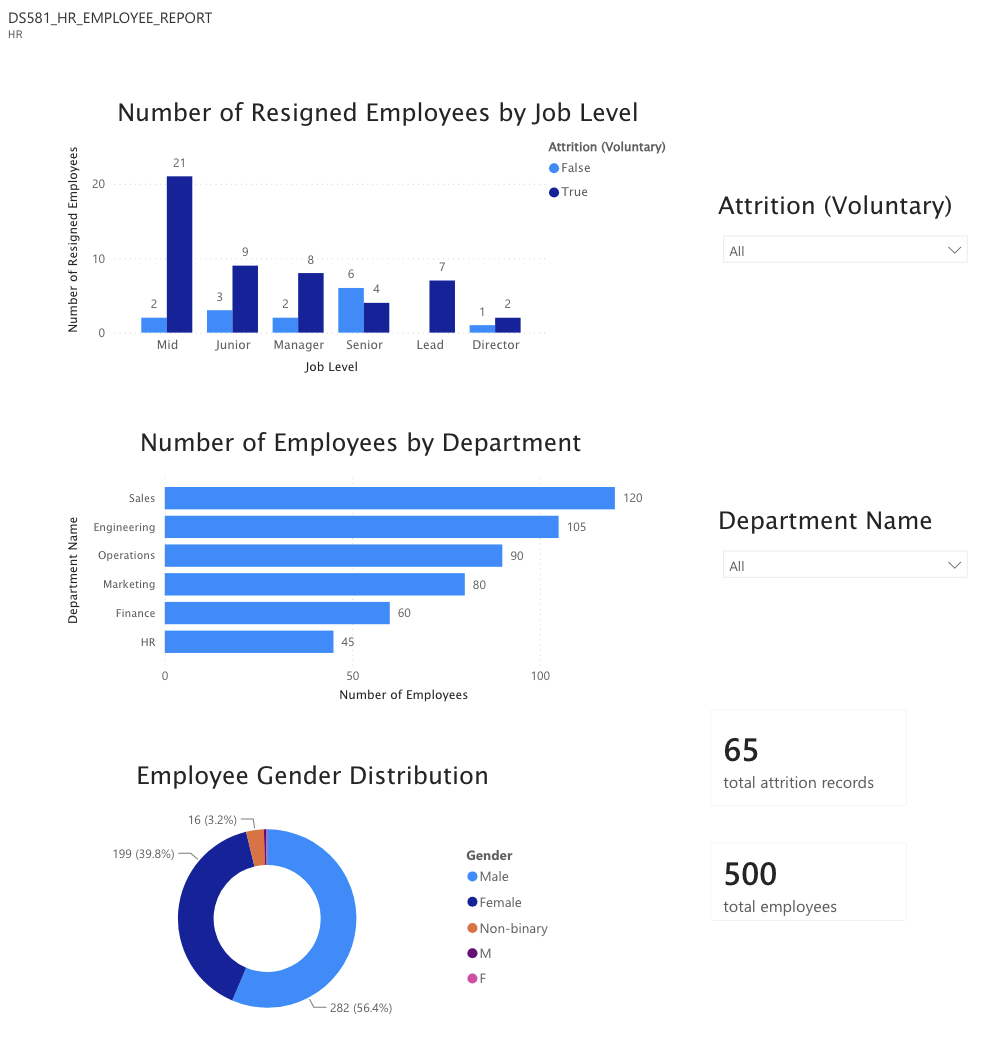

What the dashboard file says about the page in this screenshot:
{"tool":"powerbi","page":{"name":"HR","canvas":[1019,1005],"ordinal":0},"visuals":[{"type":"donutChart","title":"Employee Gender Distribution","fields":{"Category":["Employees.Gender"],"Y":["Count(Employees.EmployeeID)"]},"box":[63.9,705.8,493.9,280.5],"z":0},{"type":"slicer","title":"Department Name","fields":{"Values":["Departments.DeptName"]},"box":[707.4,453.4,261.8,98.2],"z":1},{"type":"slicer","title":"Attrition (Voluntary)","fields":{"Values":["Attrition_Records.Voluntary"]},"box":[707.4,141.8,261.8,99.7],"z":2},{"type":"barChart","title":"Number of Employees by Department","fields":{"Category":["Departments.DeptName"],"Y":["Count(Employees.EmployeeID)"]},"box":[63.9,375.5,589,282],"z":3},{"type":"cardVisual","title":"Total Number of Employees","fields":{"Data":["Count(Employees.EmployeeID)"]},"box":[687.1,771.3,229,112.2],"z":4},{"type":"cardVisual","fields":{"Data":["Count(Attrition_Records.AttritionID)"]},"box":[687.1,640.4,229,130.9],"z":5},{"type":"clusteredColumnChart","title":"Number of Resigned Employees by Job Level","fields":{"Category":["Employees.JobLevel"],"Series":["Attrition_Records.Voluntary"],"Y":["Count(Attrition_Records.AttritionID)"]},"box":[63.9,49.9,623.3,283.6],"z":6}]}

Visuals, with their boxes on the page's 1019x1005 design canvas (x1, y1, x2, y2). These are canvas units, not pixel positions in the 990x1050 screenshot, which may show the page scaled, cropped or inside an application window:
"Employee Gender Distribution" donutChart: 64,706,558,986
"Department Name" slicer: 707,453,969,552
"Attrition (Voluntary)" slicer: 707,142,969,242
"Number of Employees by Department" barChart: 64,376,653,658
"Total Number of Employees" cardVisual: 687,771,916,884
cardVisual - Count(Attrition_Records.AttritionID): 687,640,916,771
"Number of Resigned Employees by Job Level" clusteredColumnChart: 64,50,687,334
